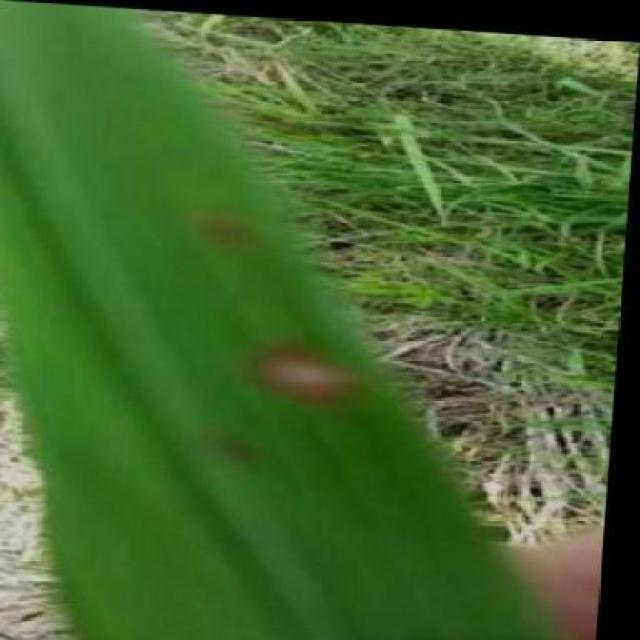Bacterial_Leaf_Blight: (234, 328, 394, 444)
